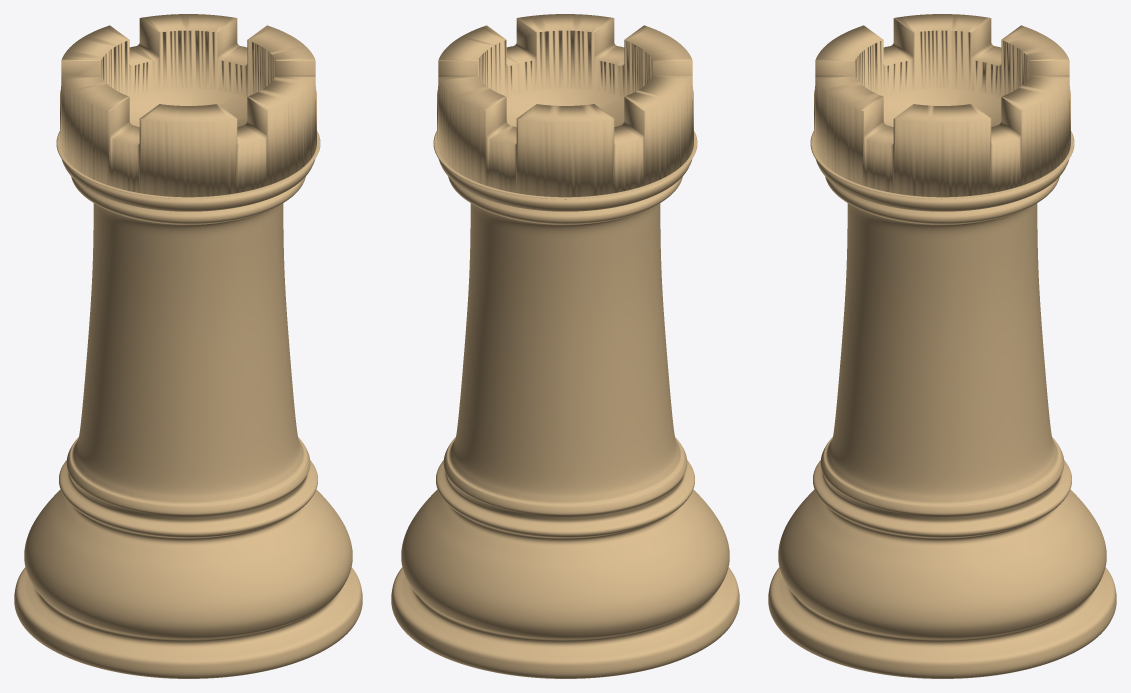
File: rook.glb
3 renders of one model, left to right at view 1: azimuth 30°, elevation 25°; view 2: azimuth 150°, elevation 25°; view 3: azimuth 270°, elevation 25°, orthographic.
Parts seen in each view (by area): view 1: Rook.002; view 2: Rook.002; view 3: Rook.002.
Part boxes in pixels (left/top/right/bottom): Rook.002: left=14, top=14, right=362, bottom=678; Rook.002: left=391, top=14, right=739, bottom=678; Rook.002: left=768, top=14, right=1116, bottom=678.
Bounding box in the file's own units: 0.0369 × 0.064 × 0.0369.
